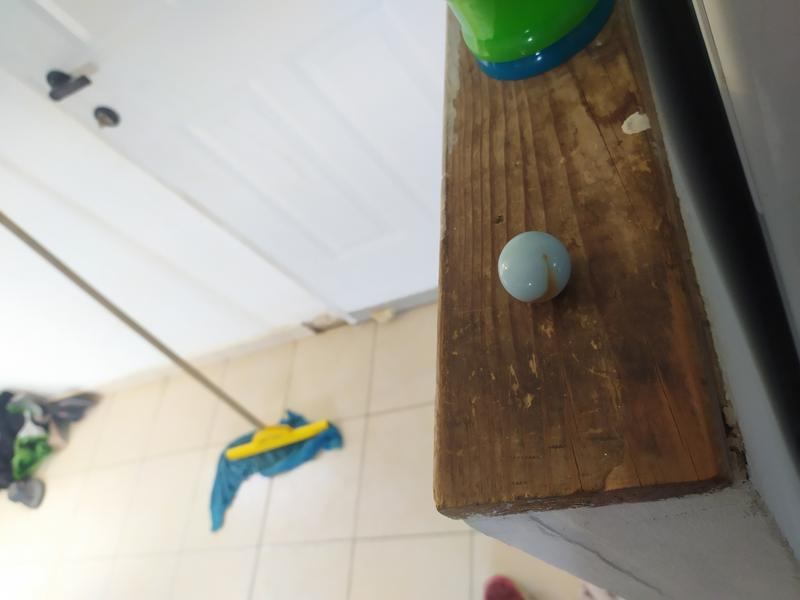Warning: (494, 227, 576, 306)
